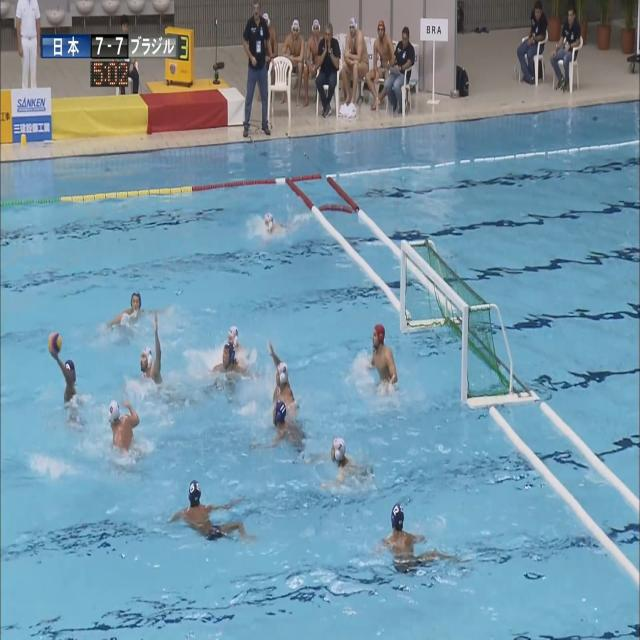ball: (48, 332, 62, 354)
